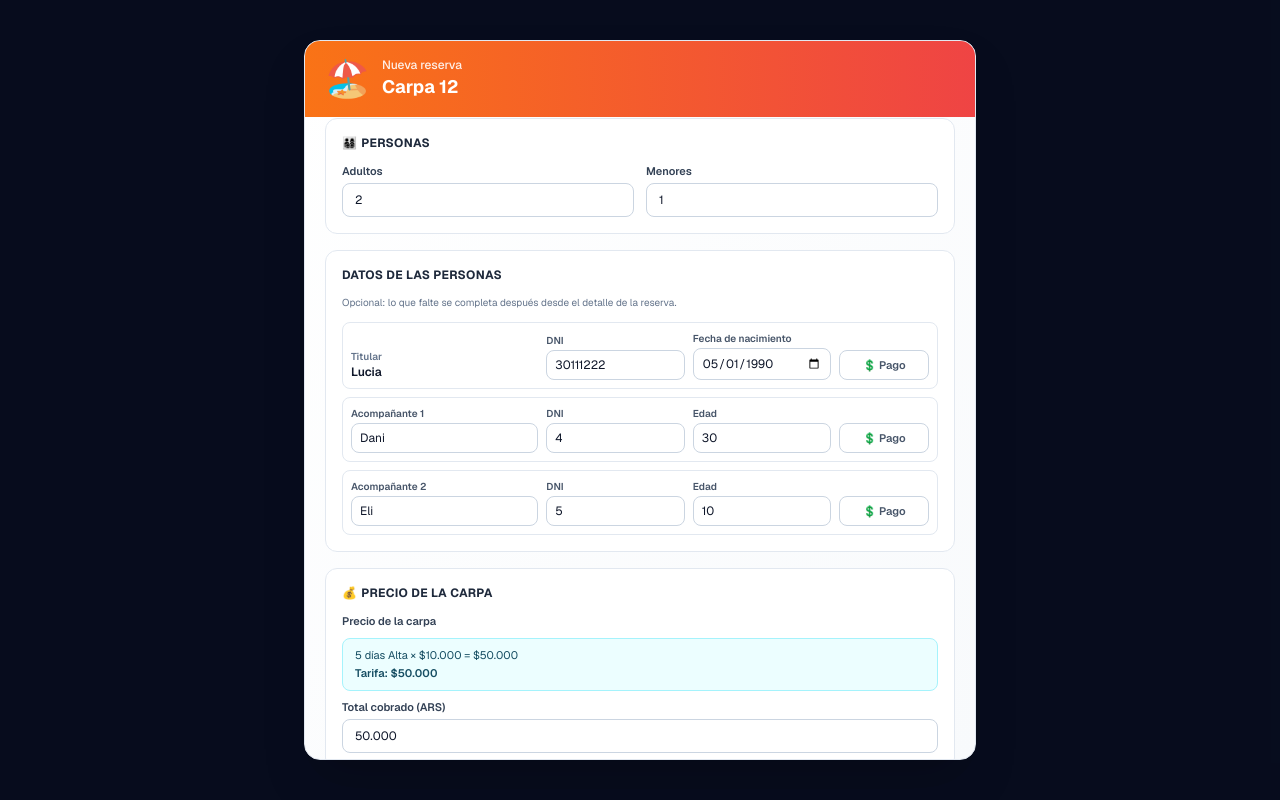
cuenta unica en el alta de la carpa › un pase pago sin precio por dia no deja guardar
(page scrolled)
Click the button with aria-label "Pase de pileta pago para Dani": (884, 438) [839, 422, 929, 453]
(page scrolled)
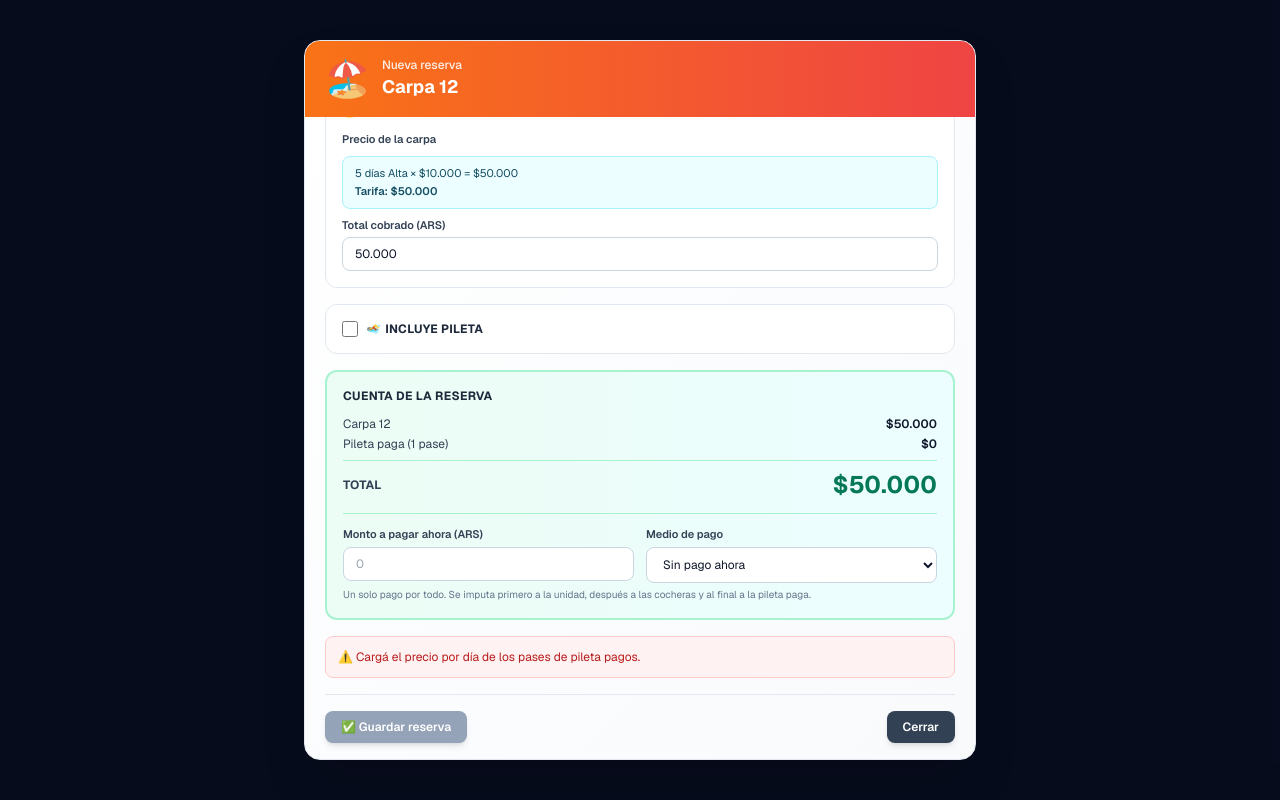
Check: the text "⚠️ Cargá el precio por día de los pases de pileta pagos." is shown, box [325, 636, 955, 678]
Check: the button "✅ Guardar reserva" is disabled, box [325, 710, 467, 742]
